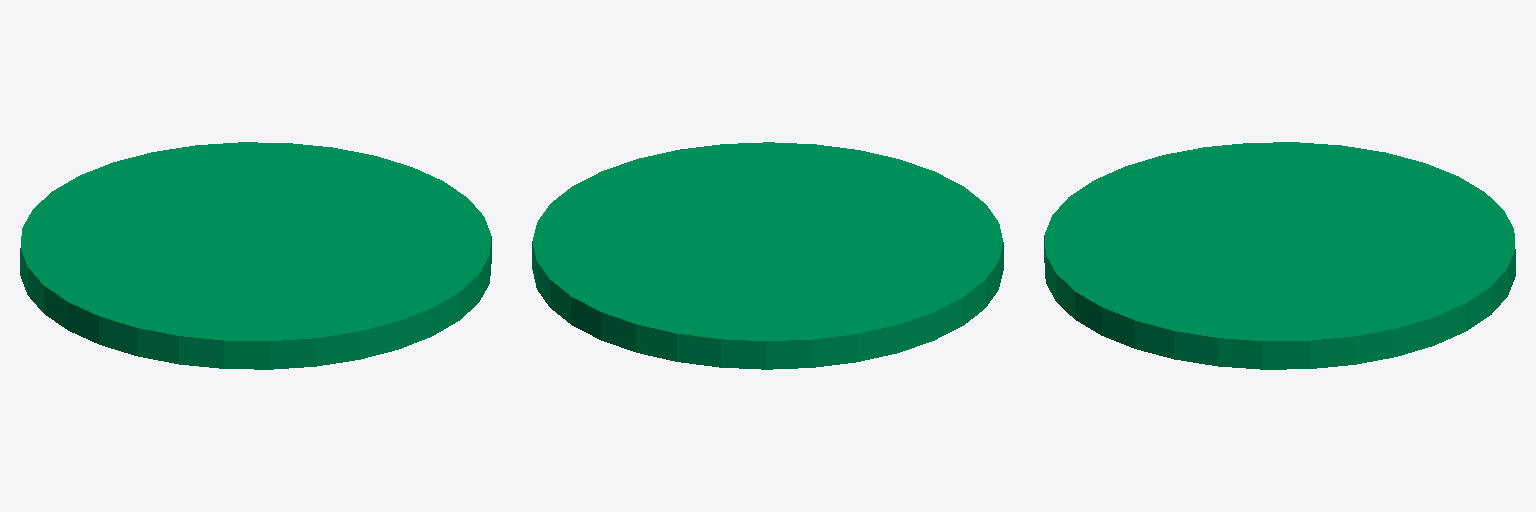
The robot description file, URDF, robot "Interference":
<?xml version="1.0"?>
<robot name="Interference">
  <link name="baseLink">
    <inertial>
      <origin xyz="0.0 0.0 0.0" rpy="0.0 0.0 0.0"/>
      <inertia ixx="0.0" ixy="0.0" ixz="0.0" iyy="0.0" iyz="0.0" izz="0.0"/>
      <mass value="0"/>
    </inertial>
    <visual>
      <origin xyz="0.0 0.0 0.0" rpy="0.0 0.0 -0.2670755035511001"/>
      <geometry>
        <cylinder radius="0.07516587987711723" length="0.01"/>
      </geometry>
      <material name="color">
        <color rgba="0.0016160865005562242 0.6297632733055035 0.3947488290717397 1.0"/>
      </material>
    </visual>
  </link>
</robot>

--- Render facts (derived) ---
Views: 3 orthographic renders of the robot side by side, from view 1: azimuth 30°, elevation 25°; view 2: azimuth 150°, elevation 25°; view 3: azimuth 270°, elevation 25°.
Robot: Interference — 1 links, 0 joints (none); root link baseLink; default pose: every joint at zero.
Links seen in each view (by area): view 1: baseLink; view 2: baseLink; view 3: baseLink.
Link boxes in pixels (box(x1,y1,x2,y2)): baseLink: box(20, 142, 491, 369); baseLink: box(532, 142, 1003, 369); baseLink: box(1044, 142, 1515, 369).
Size in the robot's own frame: 0.15 by 0.15 by 0.01 metres.
Geometry: primitives only (box / cylinder / sphere), no mesh files.